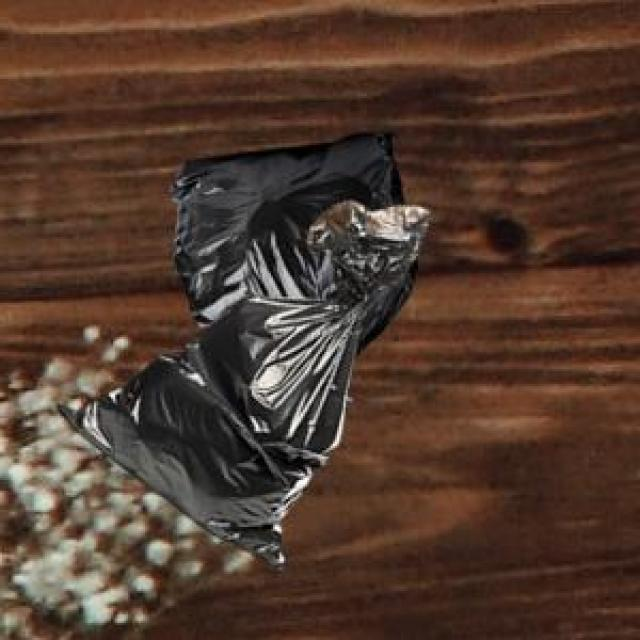Trashbag: (54, 298, 363, 576), (163, 128, 424, 352)
